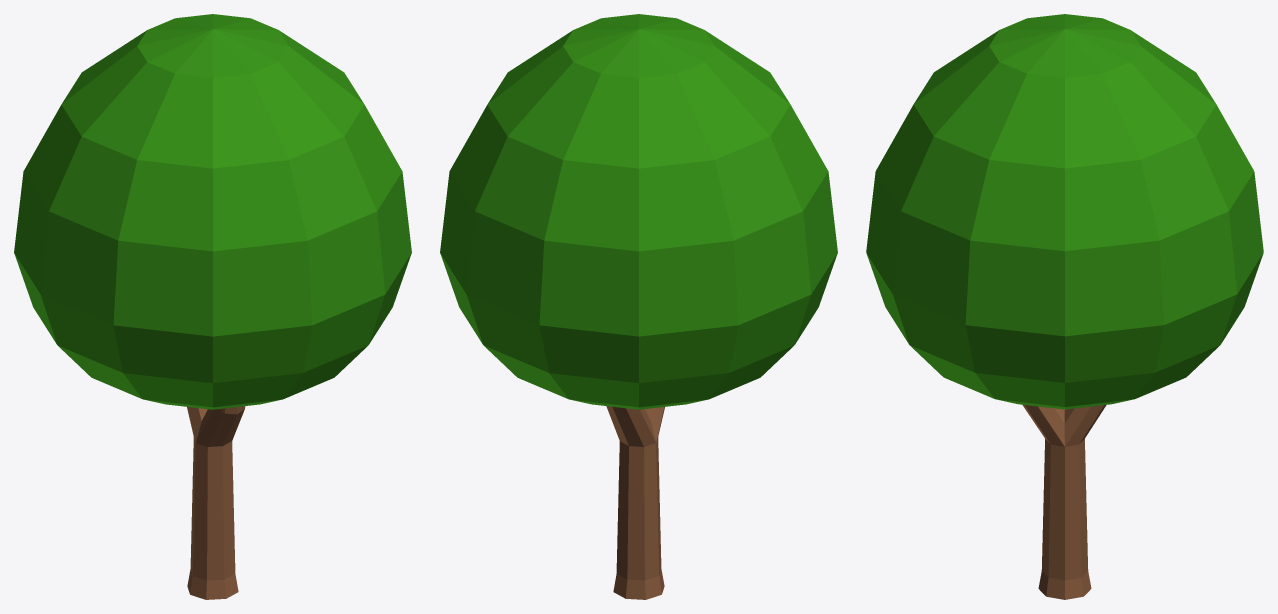
Rendered from Prop_Decorative_Tree_Elm_3.obj.
3 renders of one model, left to right at view 1: azimuth 30°, elevation 25°; view 2: azimuth 150°, elevation 25°; view 3: azimuth 270°, elevation 25°, orthographic.
Parts seen in each view (by area): view 1: Leaves, Trunk; view 2: Leaves, Trunk; view 3: Leaves, Trunk.
Boxes of the visible parts, x1,y1,x2,y2 form: Leaves: [14, 14, 411, 409]; Trunk: [187, 406, 245, 599]; Leaves: [440, 14, 837, 409]; Trunk: [606, 406, 664, 599]; Leaves: [866, 14, 1263, 409]; Trunk: [1022, 404, 1106, 599].
Bounding box in the file's own units: 3 × 4.66 × 3.
